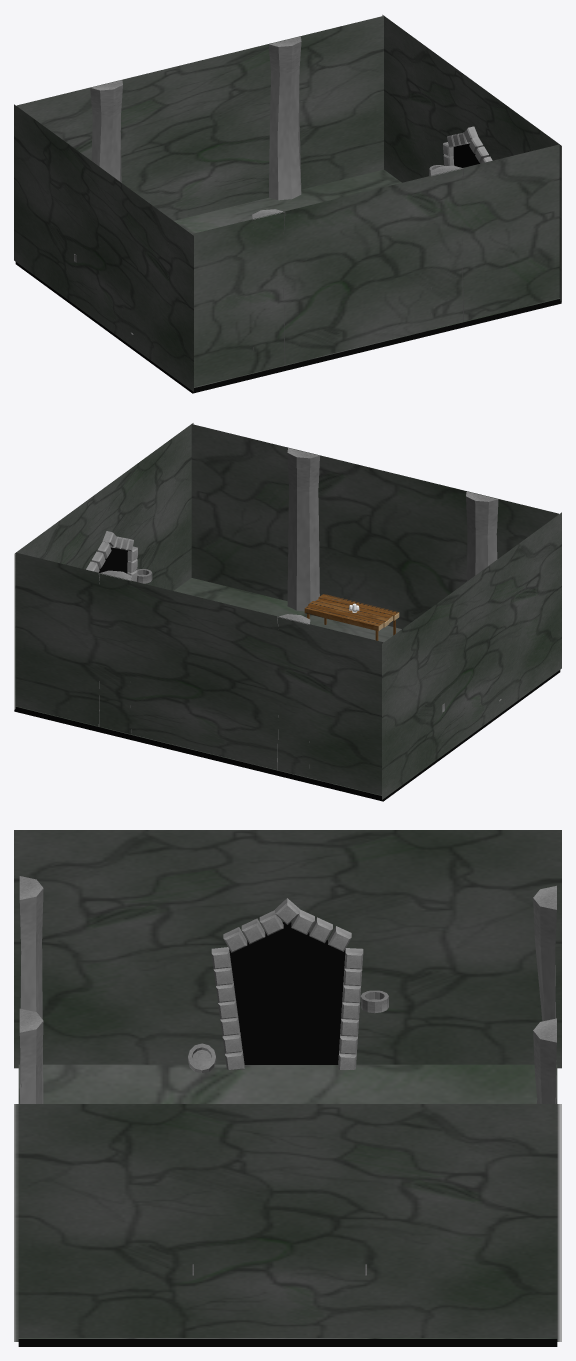
The model's file is donjonv2.fbx.
3 renders of one model, top to bottom at view 1: azimuth 30°, elevation 25°; view 2: azimuth 150°, elevation 25°; view 3: azimuth 270°, elevation 25°, orthographic. The views are drawn at different scales.
Visible parts, largest first — view 1: polySurface7, polySurface53, polySurface1, polySurface8, polySurface10, polySurface160, polySurface62, polySurface229, pPlane7; view 2: polySurface53, polySurface7, polySurface1, polySurface8, polySurface10, polySurface161, polySurface61, pCube32, polySurface229, pPlane7; view 3: polySurface8, polySurface1, polySurface10, pPlane6, polySurface166, polySurface61, polySurface62, polySurface161, polySurface160, pCylinder42.
Boxes of the visible parts, bbox=[...] form: polySurface7: bbox=[192, 144, 559, 387]; polySurface53: bbox=[16, 16, 383, 220]; polySurface1: bbox=[14, 104, 193, 391]; polySurface8: bbox=[382, 14, 561, 301]; polySurface10: bbox=[15, 169, 561, 393]; polySurface160: bbox=[268, 36, 301, 200]; polySurface62: bbox=[90, 80, 122, 182]; polySurface229: bbox=[443, 126, 492, 166]; pPlane7: bbox=[453, 143, 479, 167]; polySurface53: bbox=[16, 552, 383, 795]; polySurface7: bbox=[191, 424, 558, 628]; polySurface1: bbox=[382, 512, 561, 799]; polySurface8: bbox=[14, 423, 193, 709]; polySurface10: bbox=[14, 578, 560, 801]; polySurface161: bbox=[287, 448, 319, 611]; polySurface61: bbox=[466, 491, 498, 581]; pCube32: bbox=[304, 594, 399, 640]; polySurface229: bbox=[86, 531, 137, 581]; pPlane7: bbox=[99, 547, 127, 573]; polySurface8: bbox=[14, 1104, 561, 1341]; polySurface1: bbox=[14, 830, 561, 1068]; polySurface10: bbox=[18, 1064, 557, 1346]; pPlane6: bbox=[229, 922, 345, 1064]; polySurface166: bbox=[211, 898, 363, 1069]; polySurface61: bbox=[19, 876, 43, 1103]; polySurface62: bbox=[533, 885, 556, 1103]; polySurface161: bbox=[19, 1008, 43, 1103]; polySurface160: bbox=[533, 1018, 556, 1103]; pCylinder42: bbox=[188, 1043, 216, 1072].
Bounding box in the file's own units: 36.75 × 15.1 × 30.95.
